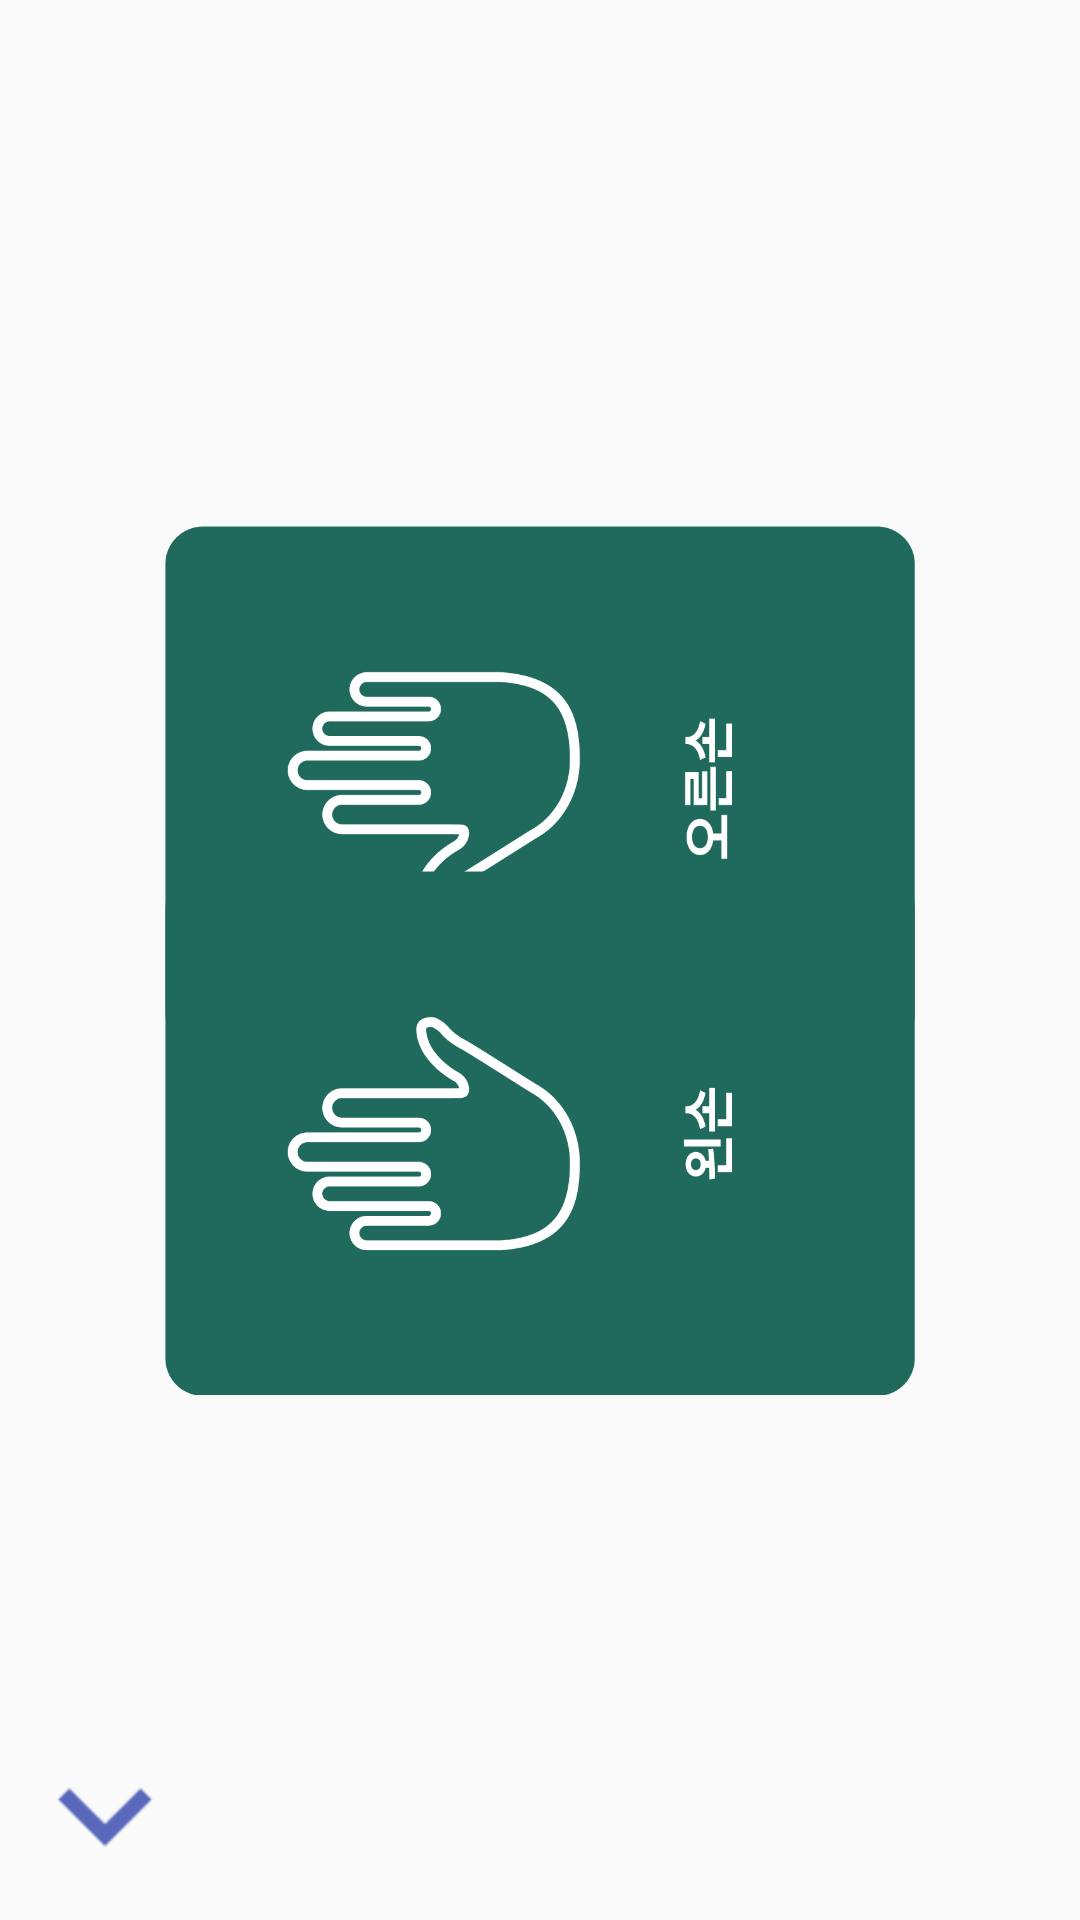

Icon bounding boxes for this 1080px x 1920px phone screenshot, format (x1, y1, x2, y2):
down: (58, 1788, 152, 1847)
